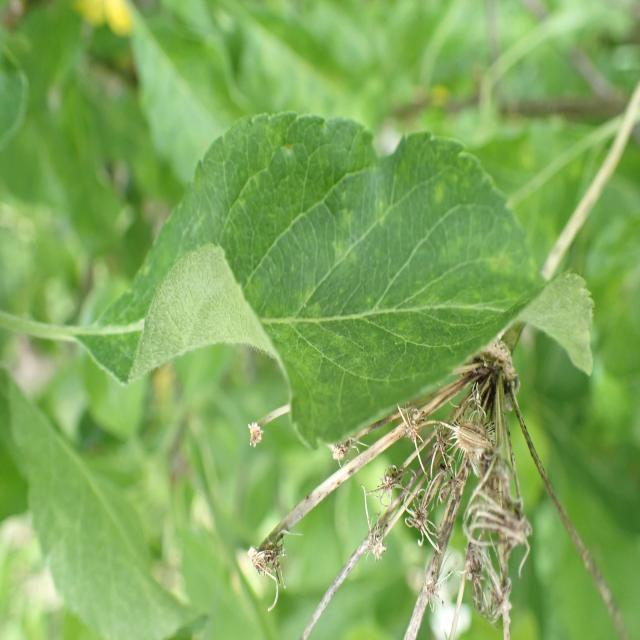scab: (193, 120, 553, 374)
